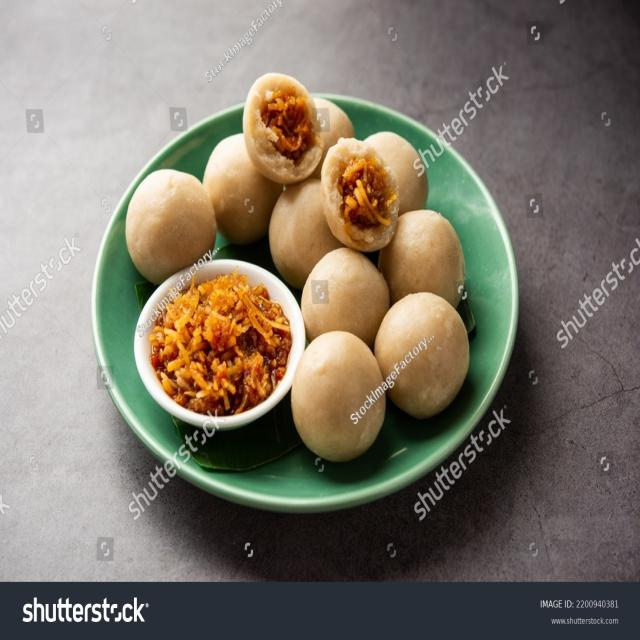poorna kolukattai: (127, 62, 504, 506)
